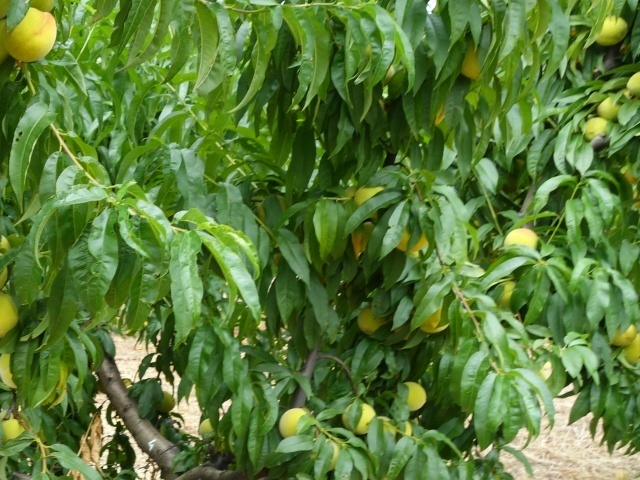peach: (6, 6, 62, 65), (342, 397, 379, 435), (277, 403, 314, 440), (592, 13, 631, 48), (505, 222, 541, 258), (581, 114, 616, 150), (352, 301, 386, 338), (397, 378, 428, 416), (618, 331, 639, 377), (613, 320, 638, 357), (595, 94, 623, 126), (155, 386, 178, 416), (195, 415, 220, 441), (625, 69, 639, 103)
